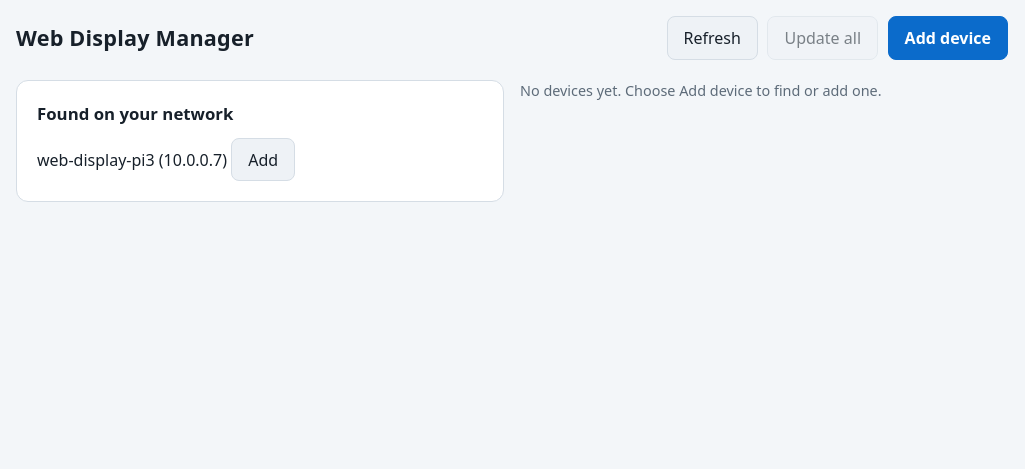
Test: shows discovered devices on the first screen
The image size is (1025, 469).
expect the text "web-display-pi3 (10.0.0.7) Add" is shown: met, box top-left (37, 138), bottom-right (295, 181)
Click the button "Add": (263, 160) top-left (231, 138), bottom-right (295, 181)
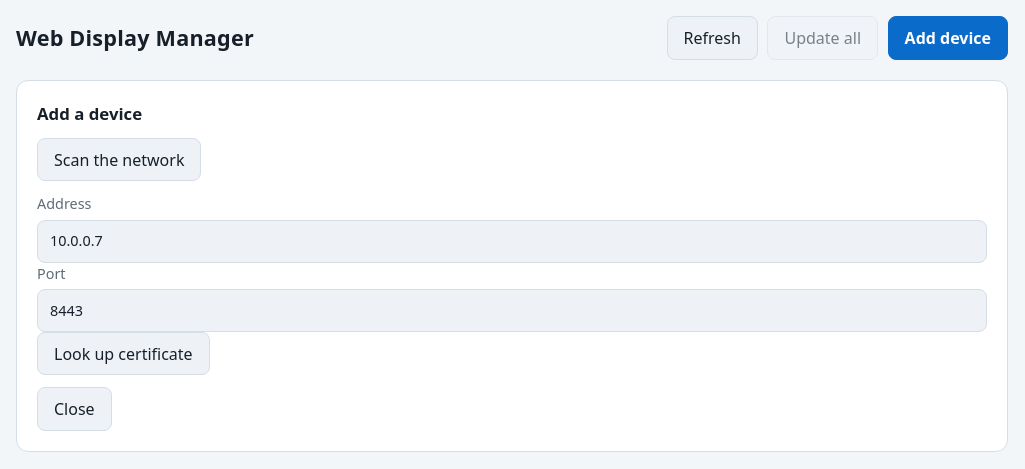
expect the heading "Add a device" is shown: met, box top-left (37, 102), bottom-right (142, 125)
